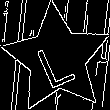L_NW: (33, 29, 81, 88)
